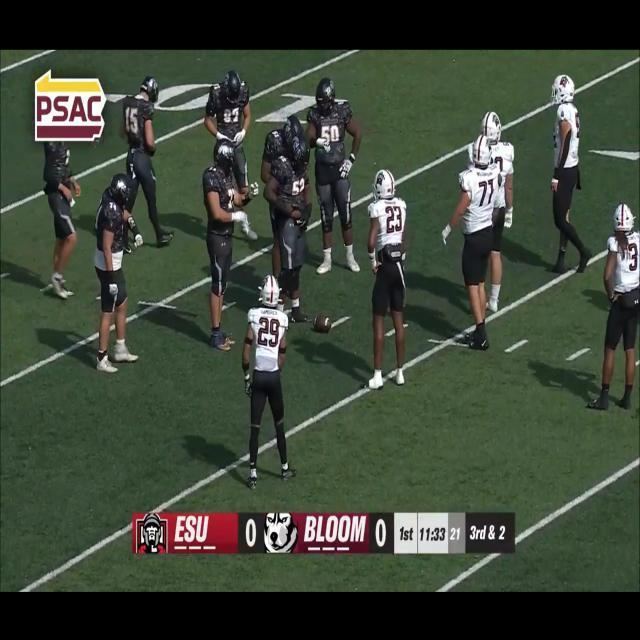football: (306, 309, 335, 336)
